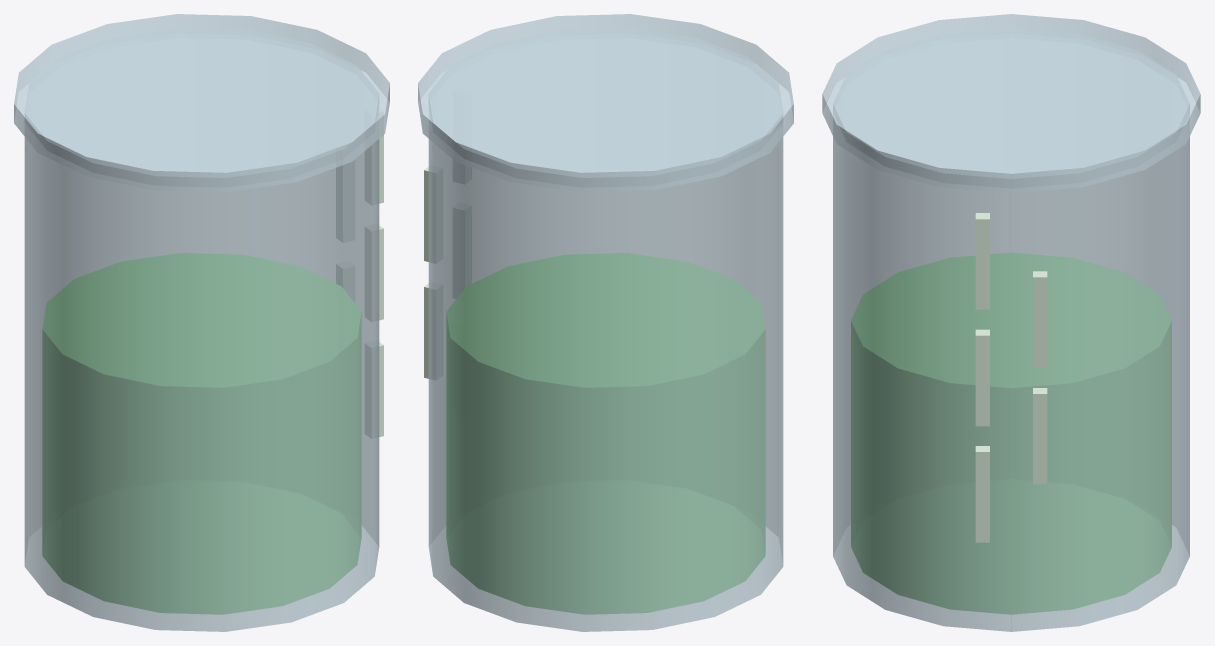
File: LabBeaker.obj
The picture shows the model from 3 angles, left to right: view 1: azimuth 30°, elevation 25°; view 2: azimuth 150°, elevation 25°; view 3: azimuth 270°, elevation 25°; orthographic projection.
Visible parts, largest first — view 1: GlassBody, GreenLiquid, Rim, Crack_3, Crack_1, Crack_4, Crack_5, Crack_2; view 2: GlassBody, GreenLiquid, Rim, Crack_2, Crack_4, Crack_3; view 3: GlassBody, GreenLiquid, Rim, Crack_3, Crack_1, Crack_4, Crack_5, Crack_2.
Part boxes in pixels (box(x1,y1,x2,y2)): GlassBody: box(24, 28, 379, 631); GreenLiquid: box(42, 253, 361, 614); Rim: box(14, 14, 389, 192); Crack_3: box(365, 224, 383, 321); Crack_1: box(365, 341, 383, 437); Crack_4: box(336, 161, 354, 242); Crack_5: box(365, 110, 383, 204); Crack_2: box(336, 261, 354, 301); GlassBody: box(428, 28, 783, 631); GreenLiquid: box(446, 253, 765, 614); Rim: box(418, 14, 793, 192); Crack_2: box(424, 282, 442, 379); Crack_4: box(424, 166, 442, 262); Crack_3: box(453, 203, 471, 298); GlassBody: box(833, 28, 1189, 631); GreenLiquid: box(851, 253, 1171, 614); Rim: box(822, 14, 1200, 193); Crack_3: box(975, 329, 989, 426); Crack_1: box(975, 446, 989, 542); Crack_4: box(1033, 271, 1047, 367); Crack_5: box(975, 213, 989, 309); Crack_2: box(1033, 388, 1047, 484).
Size of the model in its own units: 1.06 by 1.43 by 1.06.
